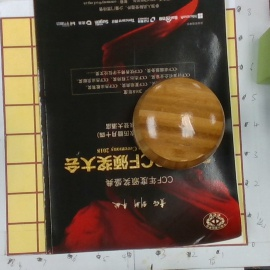chess: (130, 78, 222, 172)
